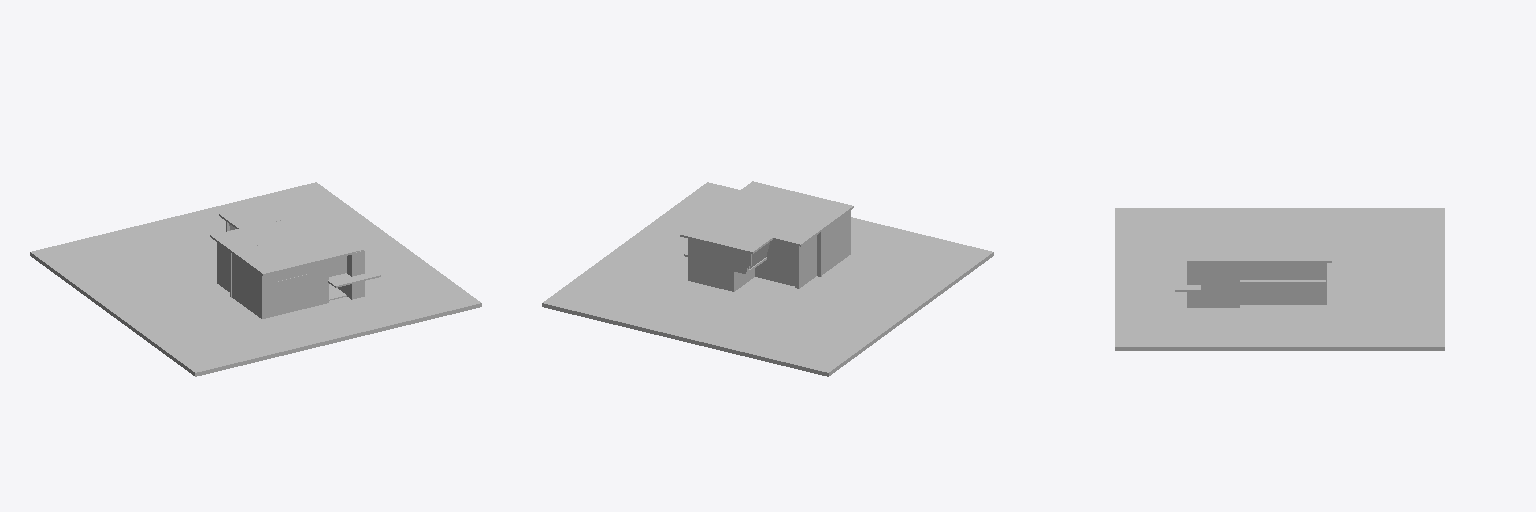
File: 11_10render(1).obj
3 renders of one model, left to right at view 1: azimuth 30°, elevation 25°; view 2: azimuth 150°, elevation 25°; view 3: azimuth 270°, elevation 25°, orthographic.
Visible parts, largest first — view 1: Box.009_Mesh_15, Cube013_0_Mesh_0, Box_Mesh_5, Box.006_Mesh_12, res_[number redacted]A_logov24_0_Mesh_1, Box.011_Mesh_17, Box.003_Mesh_8, res_C1185F58_logo11_Mesh_4, Box.004_Mesh_10; view 2: Box.009_Mesh_15, Cube013_0_Mesh_0, Box.005_Mesh_11, Box.006_Mesh_12, Box.011_Mesh_17, res_[number redacted]A_logov24_0_Mesh_1, Box.004_Mesh_10; view 3: Box.009_Mesh_15, Cube013_0_Mesh_0, res_C1185F58_logo11_Mesh_4, Box.007_Mesh_13, Box.006_Mesh_12, Box.011_Mesh_17.
Boxes of the visible parts, box(x1,y1,x2,y2) form: Box.009_Mesh_15: box(30, 182, 481, 376); Cube013_0_Mesh_0: box(230, 196, 363, 297); Box_Mesh_5: box(257, 260, 328, 318); Box.006_Mesh_12: box(210, 223, 281, 251); res_[number redacted]A_logov24_0_Mesh_1: box(232, 254, 256, 314); Box.011_Mesh_17: box(219, 202, 289, 228); Box.003_Mesh_8: box(278, 273, 312, 302); res_C1185F58_logo11_Mesh_4: box(338, 250, 364, 299); Box.004_Mesh_10: box(217, 243, 229, 291); Box.009_Mesh_15: box(542, 182, 993, 376); Cube013_0_Mesh_0: box(680, 181, 853, 291); Box.005_Mesh_11: box(755, 240, 794, 285); Box.006_Mesh_12: box(751, 216, 822, 246); Box.011_Mesh_17: box(703, 224, 772, 253); res_[number redacted]A_logov24_0_Mesh_1: box(822, 214, 845, 274); Box.004_Mesh_10: box(795, 235, 816, 288); Box.009_Mesh_15: box(1115, 208, 1444, 350); Cube013_0_Mesh_0: box(1187, 211, 1331, 304); res_C1185F58_logo11_Mesh_4: box(1187, 262, 1239, 307); Box.007_Mesh_13: box(1240, 263, 1324, 279); Box.006_Mesh_12: box(1248, 211, 1292, 235); Box.011_Mesh_17: box(1288, 225, 1331, 248).
Size of the model in its own units: 75 by 12.78 by 75.